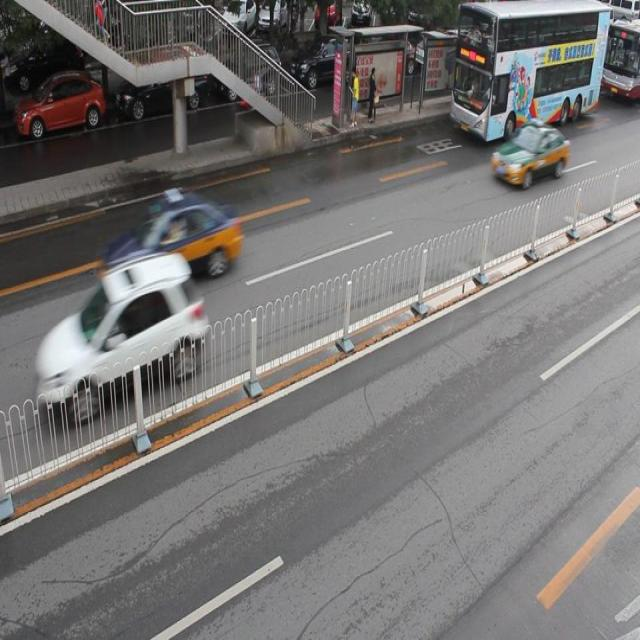car: (47, 257, 202, 406), (100, 194, 239, 280), (14, 72, 105, 141), (117, 56, 205, 119), (491, 119, 568, 187), (288, 36, 358, 90), (220, 43, 279, 102)
van: (450, 1, 606, 140), (601, 18, 640, 98)
